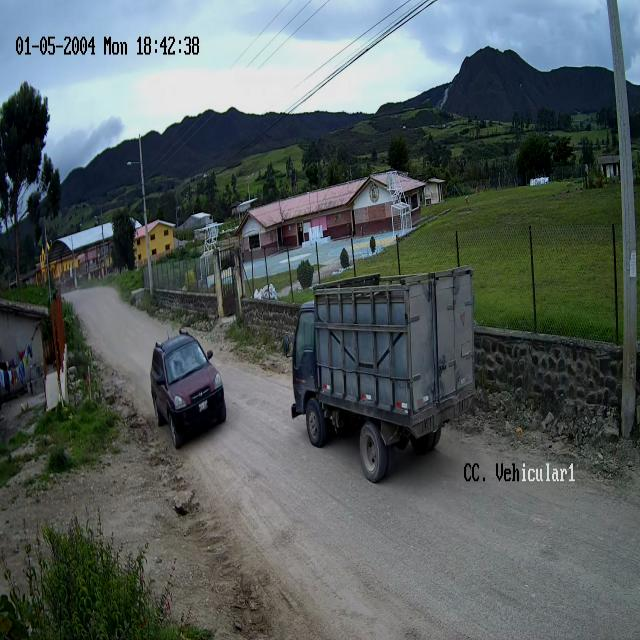SUV: (152, 334, 226, 449)
TRUCK: (292, 276, 469, 483)
